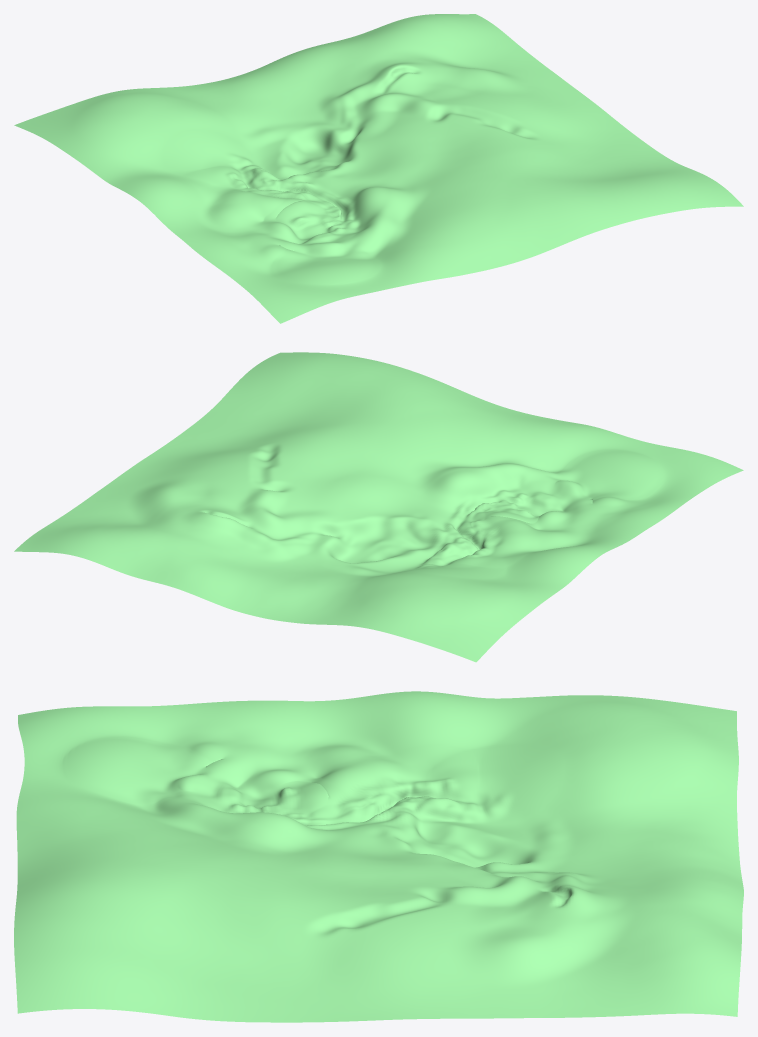
Rendered from terrain_02.glb.
The picture shows the model from 3 angles, top to bottom: view 1: azimuth 30°, elevation 25°; view 2: azimuth 150°, elevation 25°; view 3: azimuth 270°, elevation 25°; orthographic projection. The views are drawn at different scales.
Visible parts, largest first — view 1: Plane.027; view 2: Plane.027; view 3: Plane.027.
Part boxes in pixels (x1=…): Plane.027: x1=14, y1=14, x2=743, y2=323; Plane.027: x1=14, y1=352, x2=743, y2=662; Plane.027: x1=14, y1=691, x2=743, y2=1022.
Bounding box in the file's own units: 203 × 16.53 × 205.
